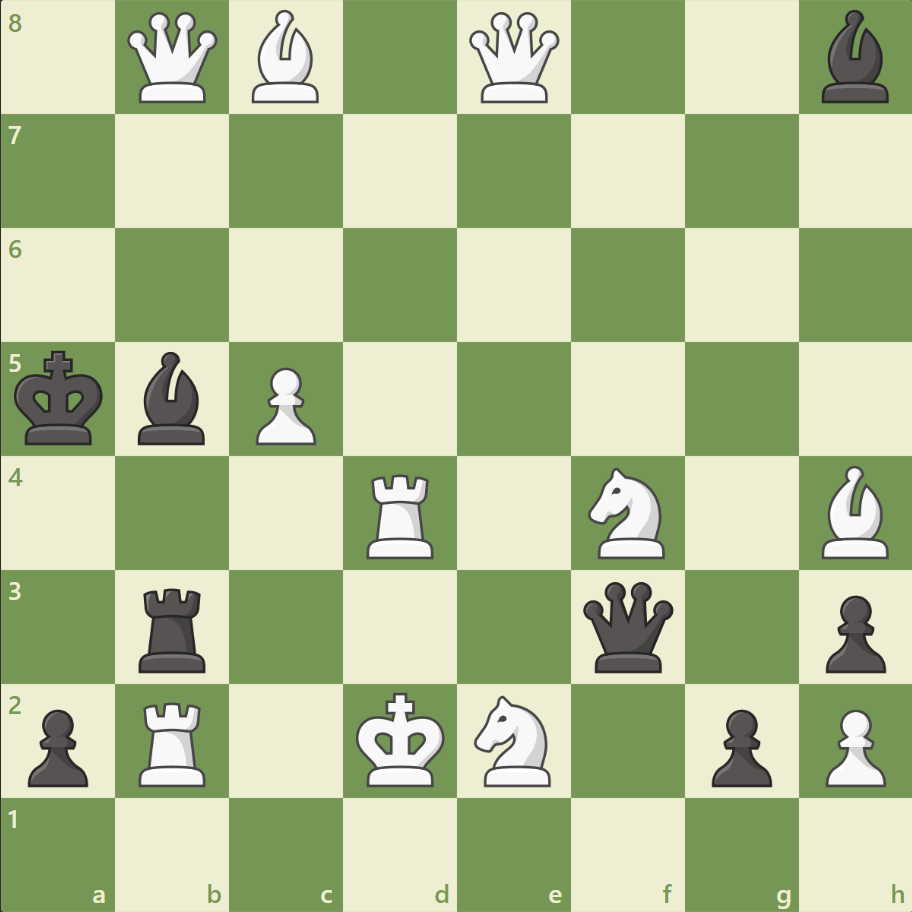B: (244, 6, 328, 109), (812, 460, 896, 563)
K: (351, 685, 451, 793)
N: (579, 461, 676, 564), (465, 688, 562, 791)
P: (247, 359, 322, 450), (815, 700, 889, 791)
Q: (124, 9, 223, 108), (464, 9, 563, 108)
R: (360, 466, 442, 563), (133, 693, 215, 790)
b: (812, 6, 896, 109), (131, 347, 215, 449)
k: (11, 344, 111, 452)
p: (20, 700, 95, 791), (701, 700, 776, 791), (815, 586, 889, 677)
q: (578, 576, 677, 676)
r: (133, 579, 215, 676)
